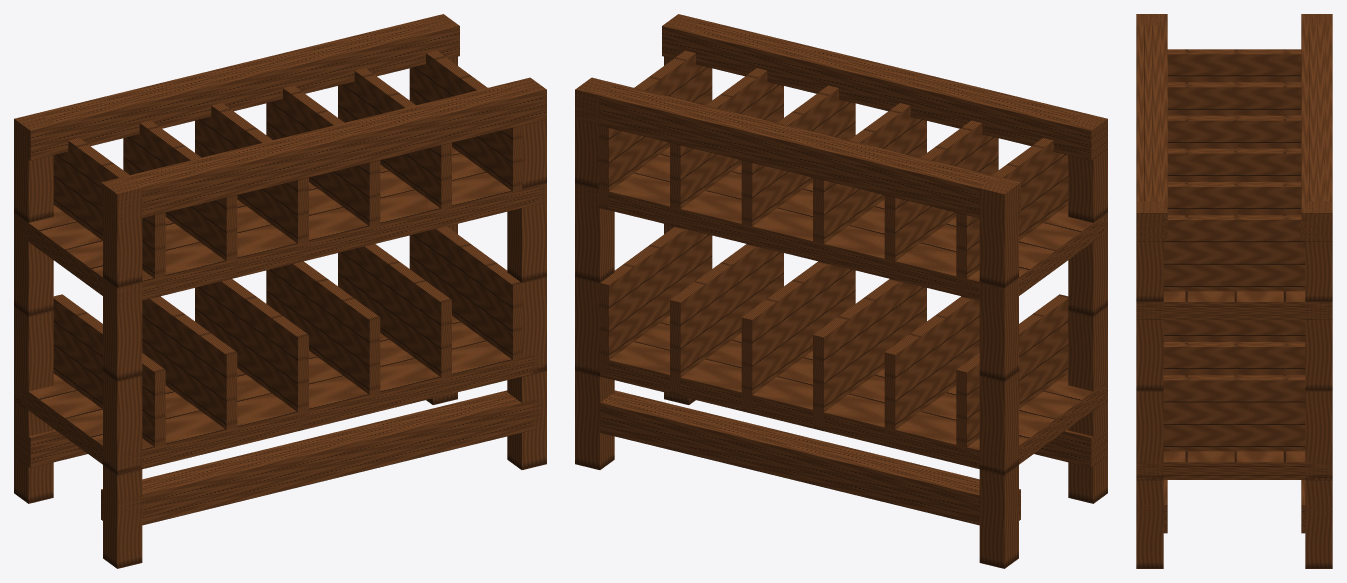
File: prehistoric-survivor-settlement-clay-pot-drying-rack-4d1072cb__23217.glb
3 views of the same model, side by side, from view 1: azimuth 30°, elevation 25°; view 2: azimuth 150°, elevation 25°; view 3: azimuth 270°, elevation 25° (orthographic). The views are drawn at different scales.
Visible parts, largest first — view 1: clay-pot-drying-rack; view 2: clay-pot-drying-rack; view 3: clay-pot-drying-rack.
Part boxes in pixels (x1=…): clay-pot-drying-rack: x1=14, y1=14, x2=546, y2=568; clay-pot-drying-rack: x1=575, y1=14, x2=1107, y2=568; clay-pot-drying-rack: x1=1136, y1=14, x2=1332, y2=568.
Size of the model in its own units: 1.2 by 1 by 0.5.
Materials: 1 (1 with a texture image).
